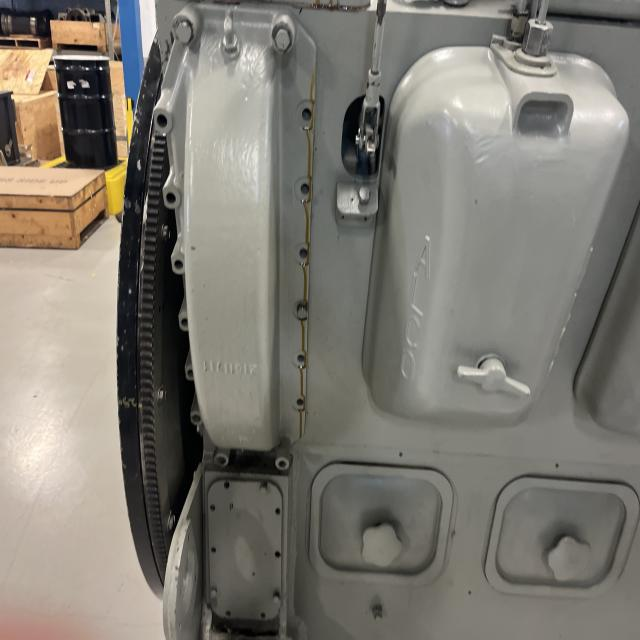Oil Leak: (292, 70, 316, 439), (293, 0, 371, 13)
